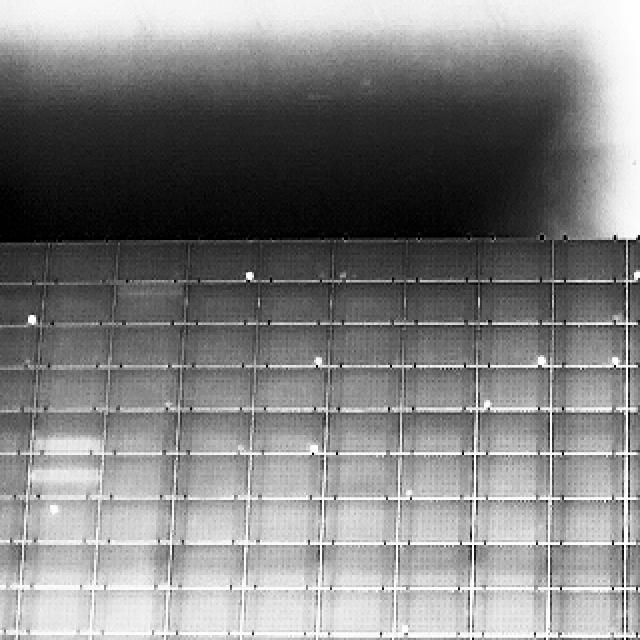Hotspots: (529, 350, 550, 370), (242, 268, 258, 284), (25, 314, 41, 329), (306, 439, 322, 454), (46, 506, 64, 518), (312, 355, 326, 370), (608, 355, 622, 369), (399, 622, 410, 637), (482, 395, 492, 409), (404, 486, 414, 498), (634, 265, 640, 283)
PV-modules: (544, 590, 622, 640), (395, 590, 473, 639), (321, 455, 399, 503), (318, 590, 396, 638), (16, 590, 92, 639), (548, 363, 624, 412), (241, 590, 318, 638), (170, 590, 246, 638), (547, 497, 623, 545), (92, 590, 168, 638), (22, 542, 98, 590), (22, 496, 98, 544), (321, 497, 398, 544), (246, 497, 321, 545), (471, 497, 546, 545), (396, 456, 472, 503), (472, 456, 548, 503), (170, 498, 246, 545), (548, 456, 624, 503), (546, 544, 622, 591), (253, 363, 329, 410), (252, 241, 333, 285), (330, 363, 404, 411), (167, 545, 244, 591), (172, 456, 247, 503), (100, 456, 175, 503), (328, 240, 406, 285), (395, 498, 471, 544), (319, 544, 395, 590), (36, 324, 112, 370), (248, 454, 322, 501), (33, 364, 107, 411), (476, 363, 550, 410), (393, 545, 470, 590), (109, 363, 181, 411), (472, 590, 541, 640), (26, 456, 101, 502), (177, 364, 252, 410), (98, 497, 171, 544), (244, 545, 320, 590), (549, 241, 625, 286), (255, 281, 331, 326), (94, 544, 168, 590), (180, 325, 257, 369), (401, 364, 474, 410), (174, 410, 250, 454), (548, 325, 624, 369), (328, 281, 402, 326), (474, 544, 546, 590), (325, 326, 402, 369), (185, 280, 260, 324), (552, 411, 628, 454), (552, 281, 628, 324), (113, 280, 184, 326), (480, 239, 551, 285), (407, 239, 478, 285), (480, 282, 554, 326), (253, 410, 327, 454), (106, 410, 180, 454), (108, 326, 181, 370), (257, 325, 330, 369), (45, 242, 116, 287), (328, 411, 404, 453), (479, 411, 553, 454), (398, 411, 472, 454), (30, 412, 104, 455), (115, 241, 187, 285), (36, 283, 114, 323), (403, 281, 477, 323), (402, 326, 474, 369), (474, 326, 546, 369), (187, 241, 257, 284), (0, 244, 48, 286), (0, 283, 42, 325), (0, 364, 35, 414), (0, 324, 38, 370), (0, 412, 31, 455), (0, 455, 26, 500), (0, 495, 23, 541), (0, 540, 20, 588), (0, 588, 17, 638), (626, 590, 640, 640), (626, 495, 640, 543), (626, 542, 640, 590), (162, 632, 242, 640), (236, 632, 314, 640), (316, 632, 394, 640), (394, 632, 472, 640), (12, 632, 88, 640), (546, 632, 622, 640), (88, 632, 162, 640), (472, 632, 542, 640), (630, 455, 640, 500), (630, 325, 640, 367), (630, 280, 640, 322), (632, 362, 640, 410), (632, 240, 640, 285), (632, 410, 640, 452), (0, 630, 14, 640), (626, 635, 640, 640)
